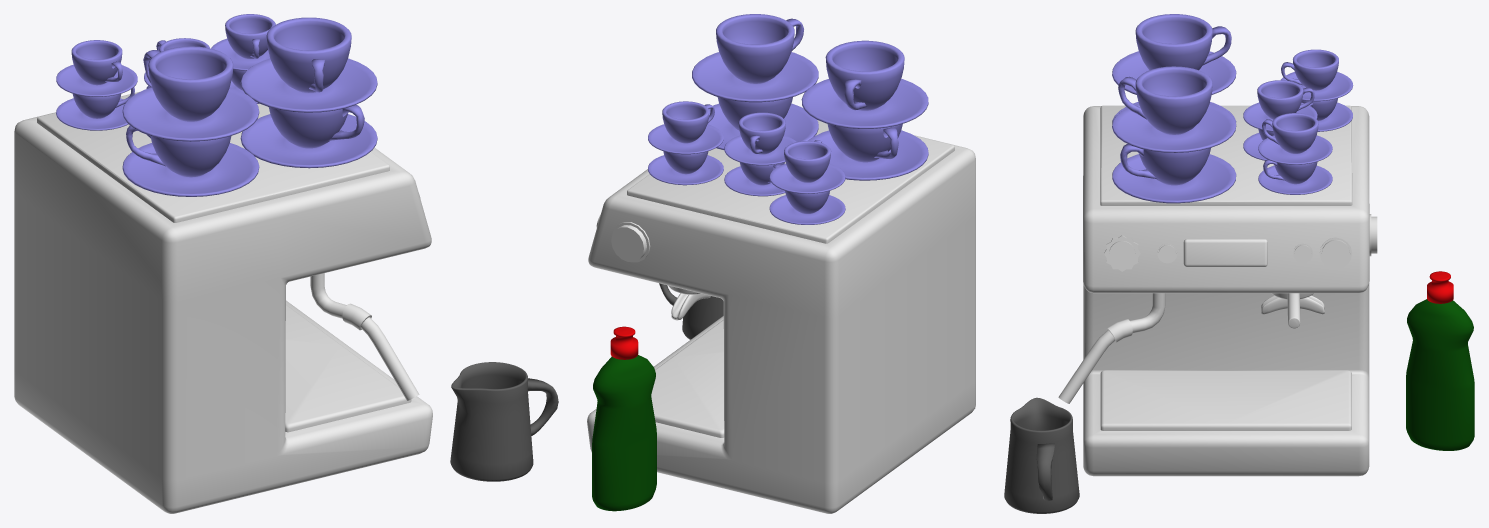
File: CoffeeMachine.fbx
3 renders of one model, left to right at view 1: azimuth 30°, elevation 25°; view 2: azimuth 150°, elevation 25°; view 3: azimuth 270°, elevation 25°, orthographic. The views are drawn at different scales.
Visible parts, largest first — view 1: CoffeeMaker, coffeeCupSet.008, milkPitcher, coffeeCupSet.006, coffeeCupSet.007, coffeeCupSet.005, coffeeCupSet.010, Steamer, coffeeCupSet.002, coffeeCupSet.009; view 2: CoffeeMaker, fairy, coffeeCupSet.006, coffeeCupSet.008, coffeeCupSet.007, coffeeCupSet.002, coffeeCupSet.010, coffeeCupSet.004, coffeeCupSet.005, coffeeCupSet.009, coffeeCupSet.001, coffeeCupSet.003 (+2 smaller); view 3: CoffeeMaker, fairy, coffeeCupSet.006, milkPitcher, coffeeCupSet.008, coffeeCupSet.005, coffeeCupSet.002, coffeeCupSet.010, coffeeCupSet.004, Steamer, coffeeCupSet.001, Handle (+1 smaller).
Boxes of the visible parts, x1,y1,x2,y2 form: CoffeeMaker: (14,92,432,513); coffeeCupSet.008: (122,46,259,141); milkPitcher: (450,362,558,481); coffeeCupSet.006: (240,17,377,112); coffeeCupSet.007: (122,125,259,196); coffeeCupSet.005: (240,105,377,168); coffeeCupSet.010: (56,40,137,96); Steamer: (310,273,419,400); coffeeCupSet.002: (211,14,275,70); coffeeCupSet.009: (56,87,134,130); CoffeeMaker: (587,120,975,513); fairy: (592,326,656,511); coffeeCupSet.006: (692,14,818,102); coffeeCupSet.008: (801,40,928,128); coffeeCupSet.007: (808,124,928,180); coffeeCupSet.002: (648,101,723,154); coffeeCupSet.010: (769,140,845,193); coffeeCupSet.004: (724,112,796,165); coffeeCupSet.005: (708,97,818,149); coffeeCupSet.009: (769,190,845,224); coffeeCupSet.001: (648,151,723,185); coffeeCupSet.003: (724,162,785,196); CoffeeMaker: (1083,105,1377,476); fairy: (1406,271,1474,450); coffeeCupSet.006: (1112,66,1236,152); milkPitcher: (1004,397,1079,513); coffeeCupSet.008: (1112,14,1236,94); coffeeCupSet.005: (1112,144,1236,203); coffeeCupSet.002: (1258,113,1332,164); coffeeCupSet.010: (1281,49,1353,101); coffeeCupSet.004: (1243,80,1317,131); Steamer: (1058,293,1165,403); coffeeCupSet.001: (1258,159,1332,194); Handle: (1261,293,1324,328).
Size of what is drawn, in the model's own units: 90.61 by 95.44 by 111.
